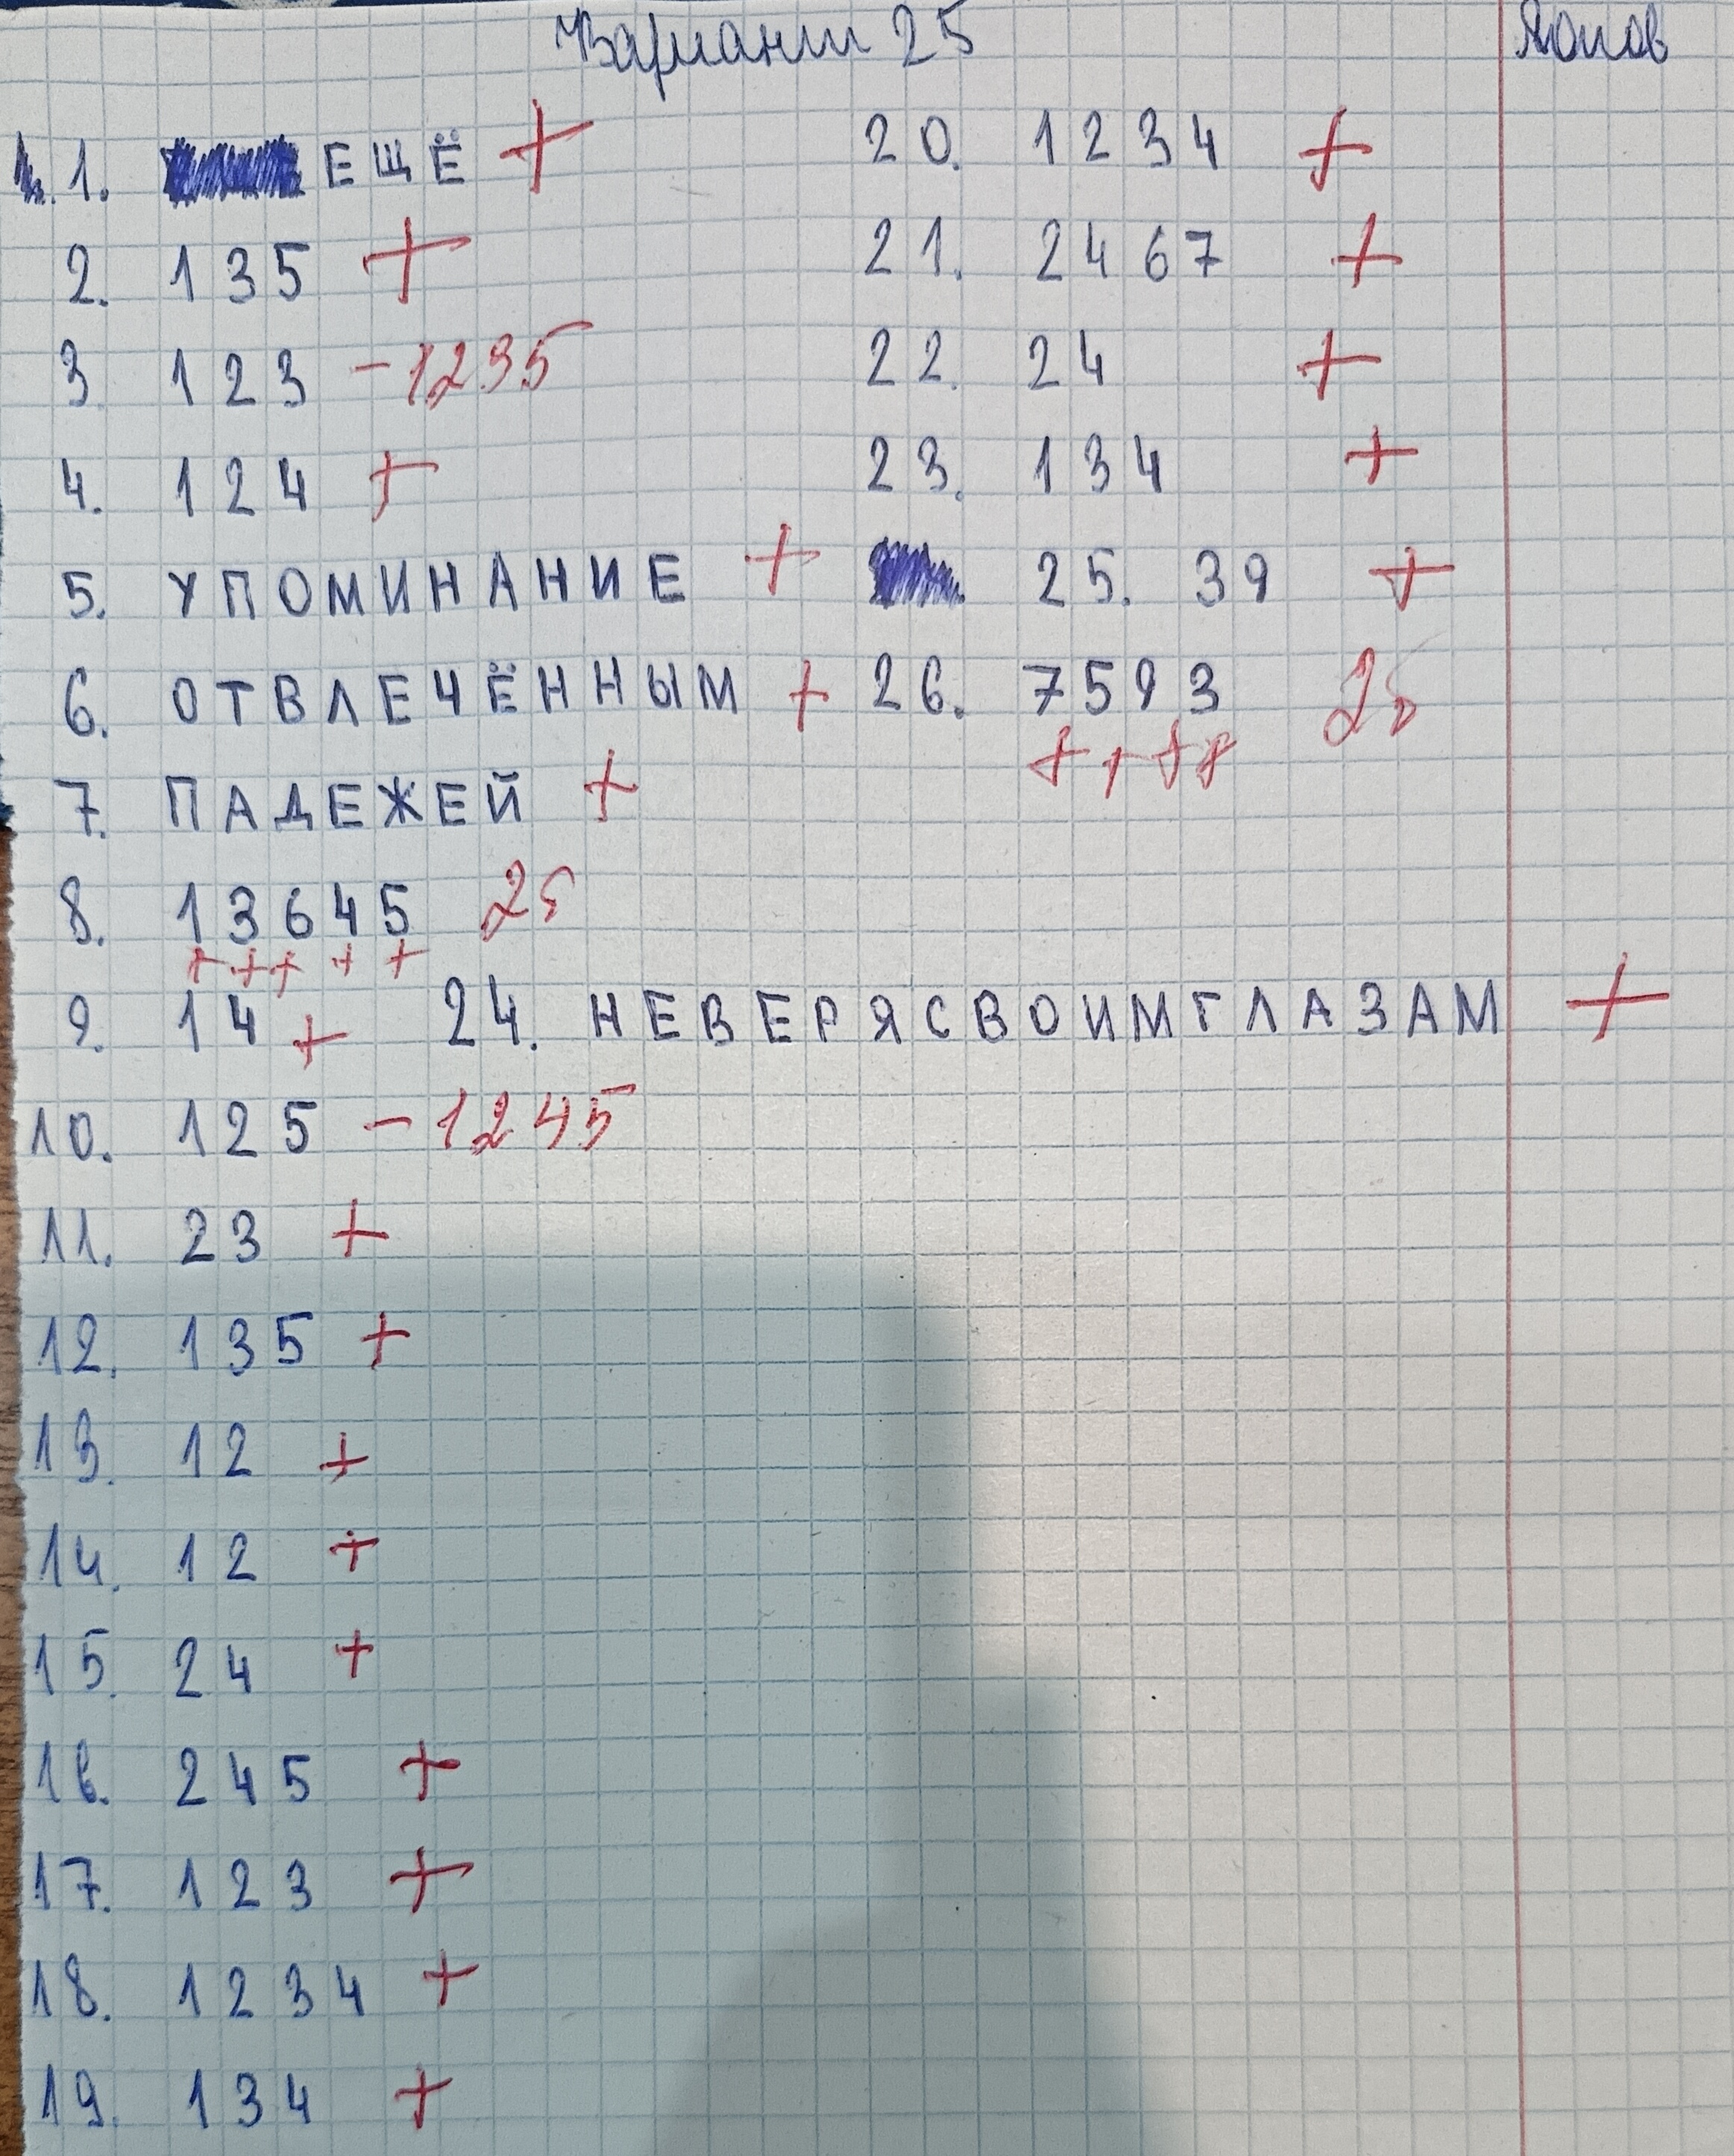text: (433, 966, 1509, 1057), (64, 653, 748, 742), (57, 543, 688, 621), (51, 761, 536, 843), (849, 209, 1230, 294), (48, 131, 476, 204), (50, 869, 430, 947), (856, 643, 1235, 720), (851, 99, 1237, 173), (21, 1952, 382, 2025), (855, 425, 1180, 503), (32, 1733, 326, 1813), (851, 313, 1127, 395), (25, 1846, 326, 1919), (25, 1094, 324, 1167), (34, 2060, 333, 2133), (1017, 535, 1283, 616), (34, 1308, 326, 1379), (46, 338, 313, 414), (53, 448, 320, 524), (27, 1404, 271, 1487), (53, 239, 324, 308), (32, 1519, 265, 1598), (27, 1627, 265, 1705), (34, 1200, 271, 1273), (57, 984, 274, 1057)
